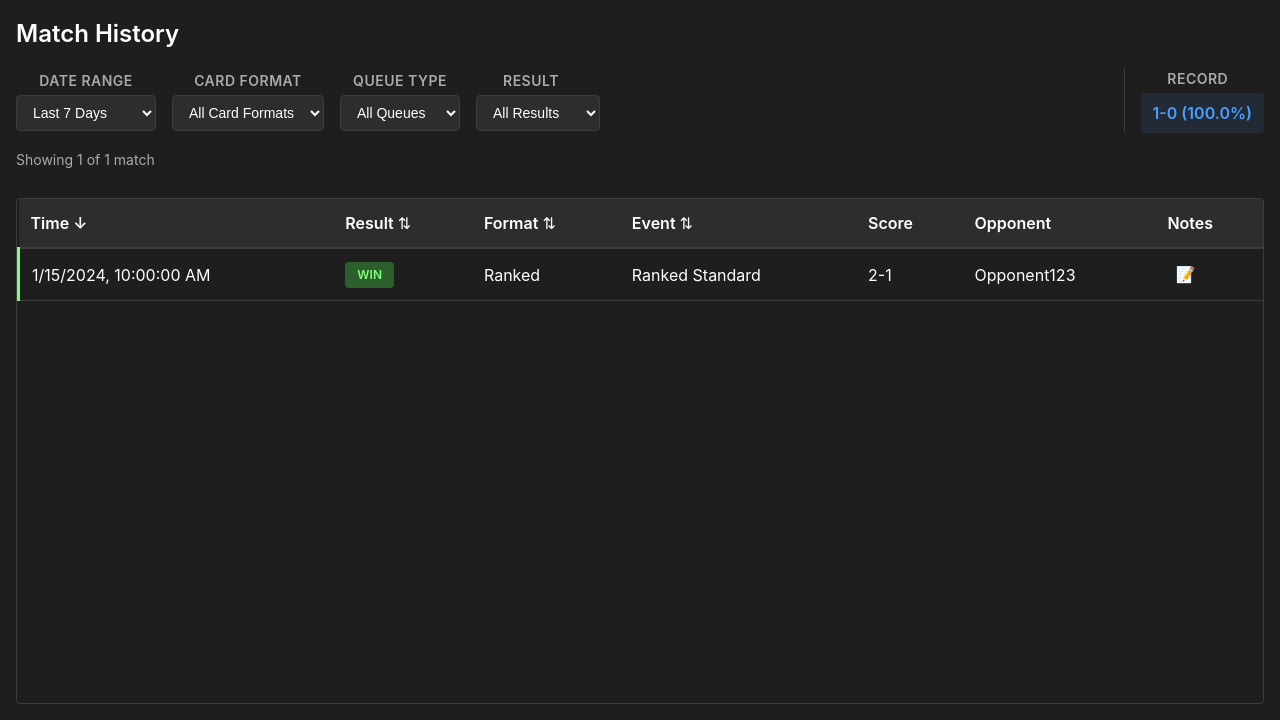
Test case: MatchHistory › Sorting › should sort by format when clicking Format header
The width and height of the screenshot is (1280, 720).
Expected: the table is shown, [17, 199, 1263, 301]
Click the column heading "Format ⇅": (546, 224) [472, 199, 620, 248]
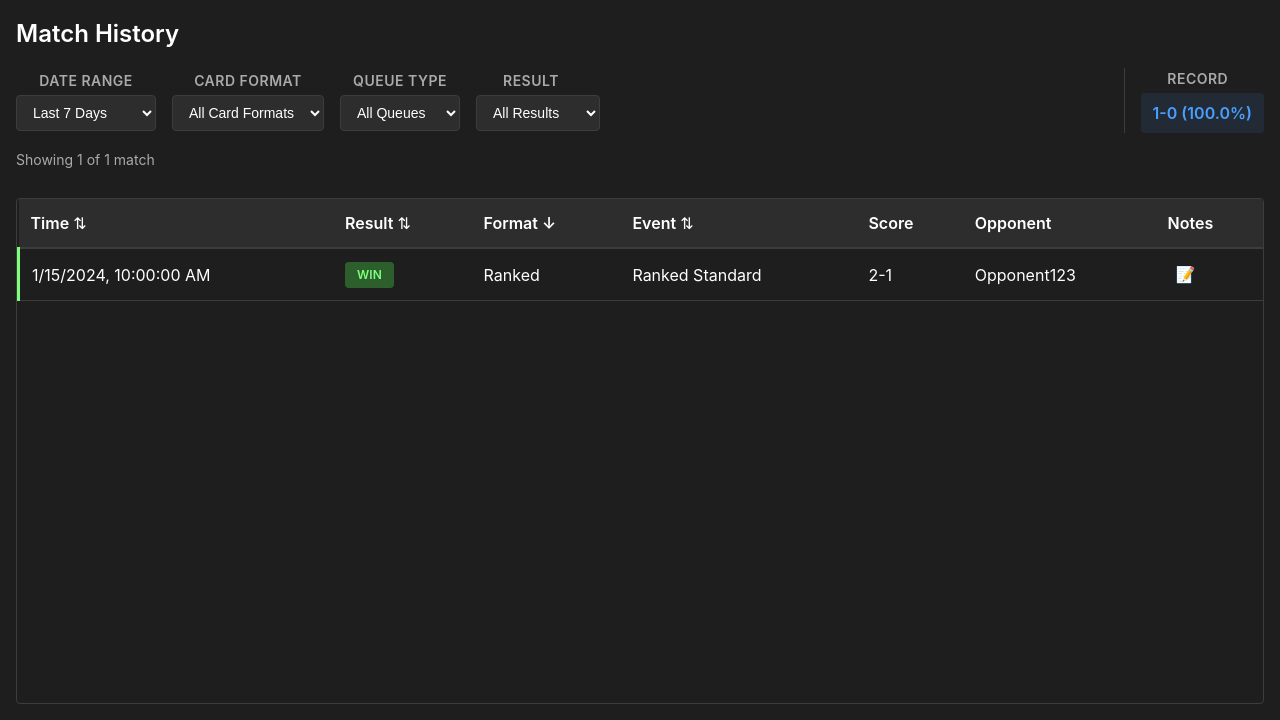
Expected: the column heading "Format ↓" is shown, [472, 199, 620, 248]
